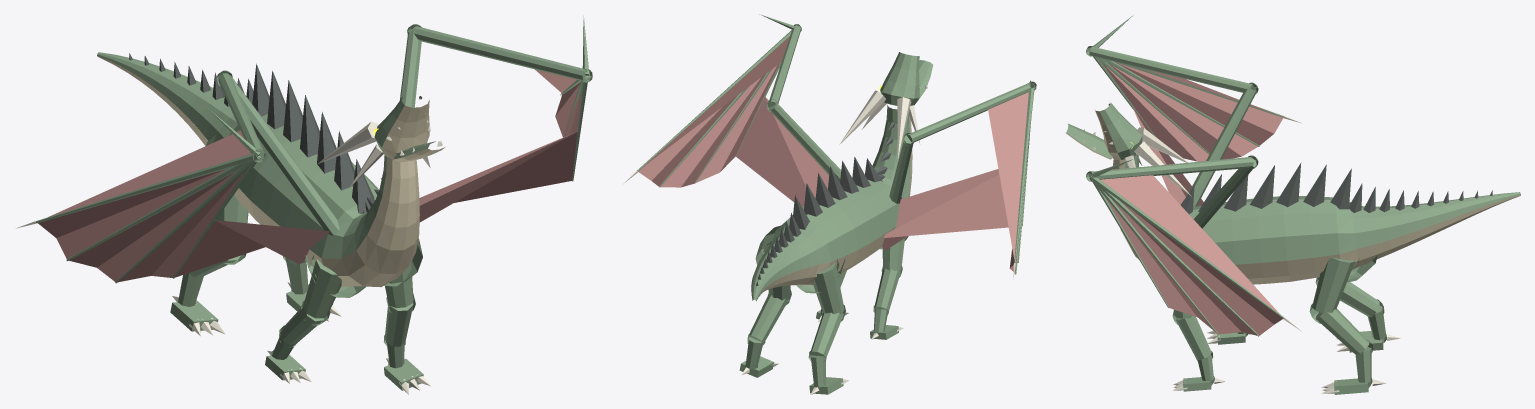
The model's file is dragons-and-wyverns-elder-dragon-roaring-a9ec714c__36713.glb.
The picture shows the model from 3 angles, left to right: view 1: azimuth 30°, elevation 25°; view 2: azimuth 150°, elevation 25°; view 3: azimuth 270°, elevation 25°; orthographic projection. The views are drawn at different scales.
Parts seen in each view (by area): view 1: elder-dragon-roaring; view 2: elder-dragon-roaring; view 3: elder-dragon-roaring.
Boxes of the visible parts, box(x1,y1,x2,y2) form: elder-dragon-roaring: box(16, 15, 592, 394); elder-dragon-roaring: box(623, 14, 1036, 394); elder-dragon-roaring: box(1066, 15, 1520, 394).
Size of the model in its own units: 10.01 by 6.4 by 9.24.
